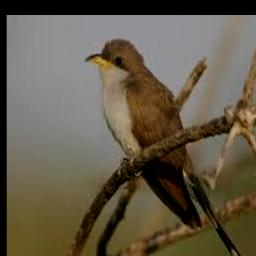Cuckoo: (85, 38, 255, 256)
